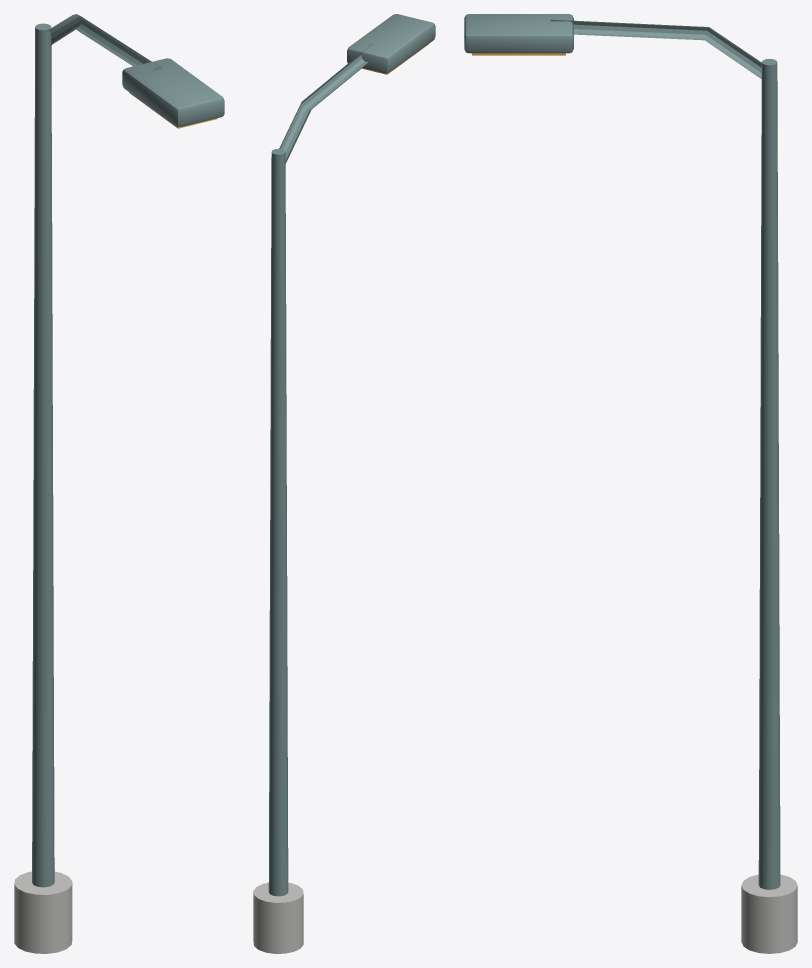
Rendered from street_lamp.glb.
The picture shows the model from 3 angles, left to right: view 1: azimuth 30°, elevation 25°; view 2: azimuth 150°, elevation 25°; view 3: azimuth 270°, elevation 25°; orthographic projection. The views are drawn at different scales.
Visible parts, largest first — view 1: street_lamp; view 2: street_lamp; view 3: street_lamp.
Boxes of the visible parts, box(x1,y1,x2,y2) form: street_lamp: box(14, 14, 224, 953); street_lamp: box(253, 14, 435, 953); street_lamp: box(464, 14, 797, 953).
Size of what is drawn, in the model's own units: 0.36 by 6.49 by 2.13.
